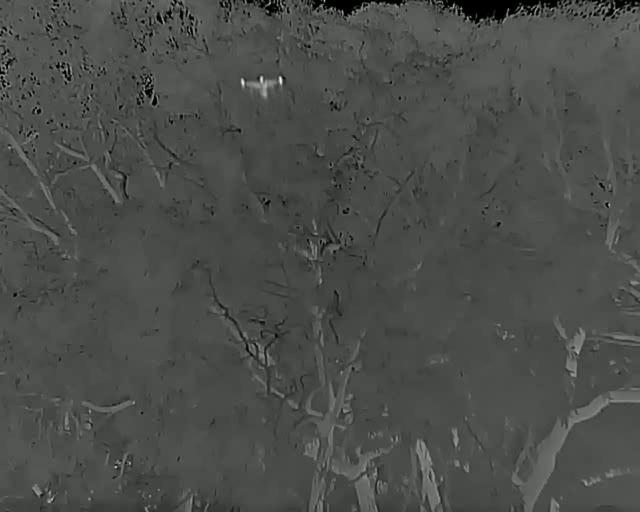DJI-Phantom: (239, 72, 285, 98)
